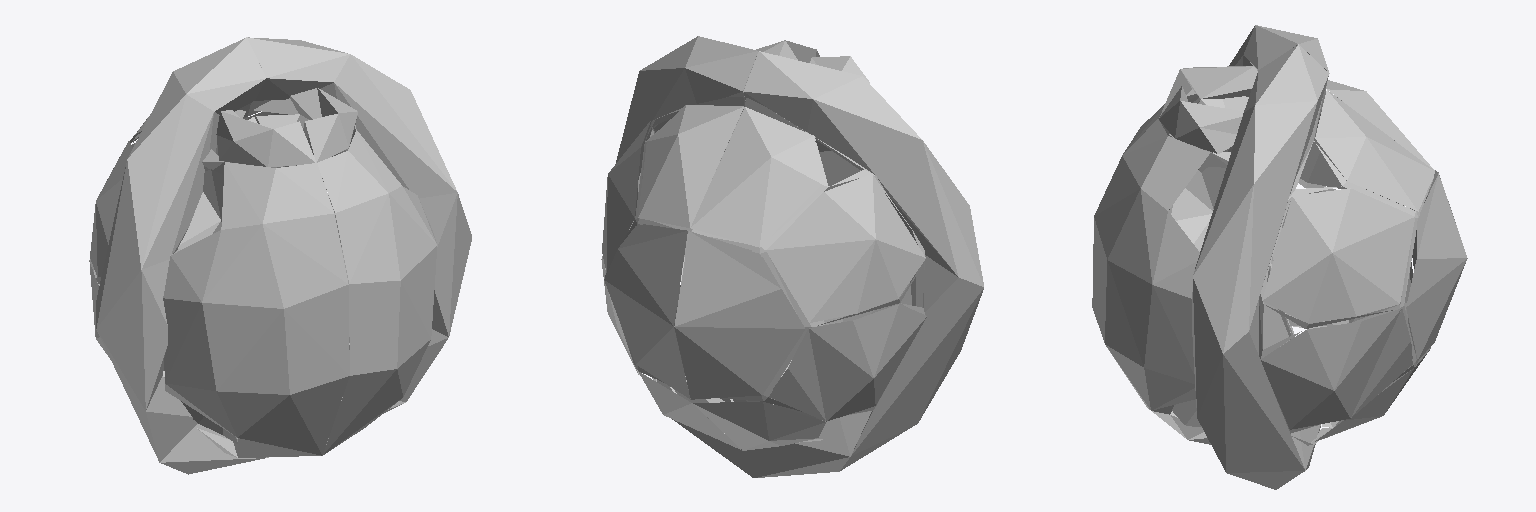
The model's file is Shell_LOD4.obj.
The picture shows the model from 3 angles: view 1: azimuth 30°, elevation 25°; view 2: azimuth 150°, elevation 25°; view 3: azimuth 270°, elevation 25°; orthographic projection.
Visible parts, largest first — view 1: greenshellShape; view 2: greenshellShape; view 3: greenshellShape.
Boxes of the visible parts, x1,y1,x2,y2 form: greenshellShape: [89, 37, 471, 474]; greenshellShape: [601, 36, 983, 477]; greenshellShape: [1092, 25, 1467, 489].
Size of the model in its own units: 0.1886 by 0.203 by 0.163.